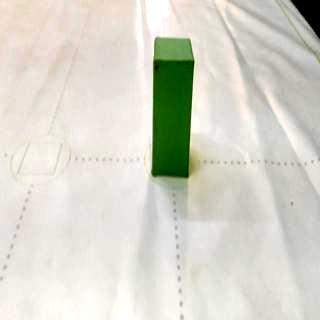greenbox: (150, 36, 196, 177)
